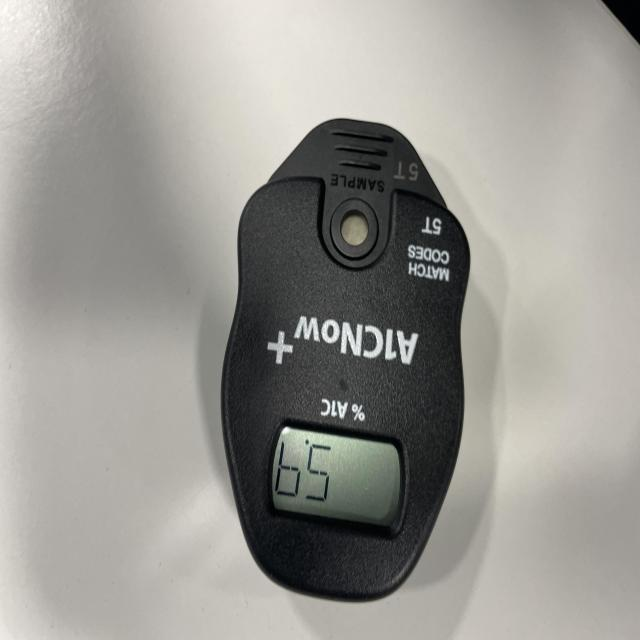hba1c: (219, 118, 472, 604)
